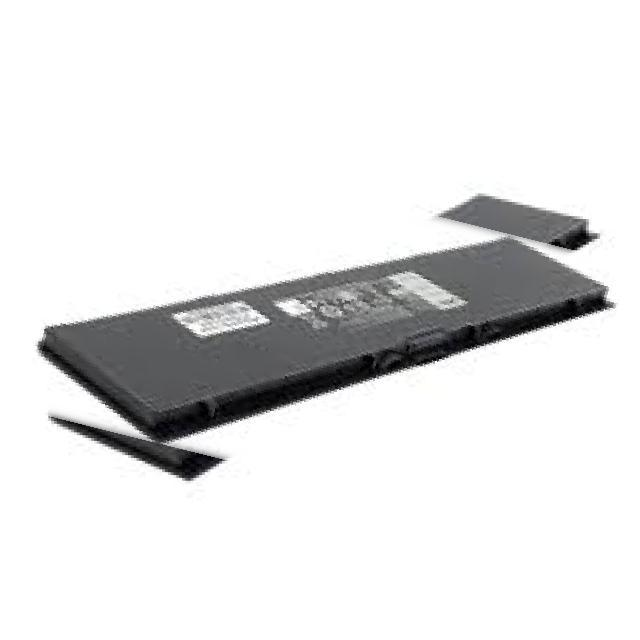Battery: (30, 230, 640, 438)
